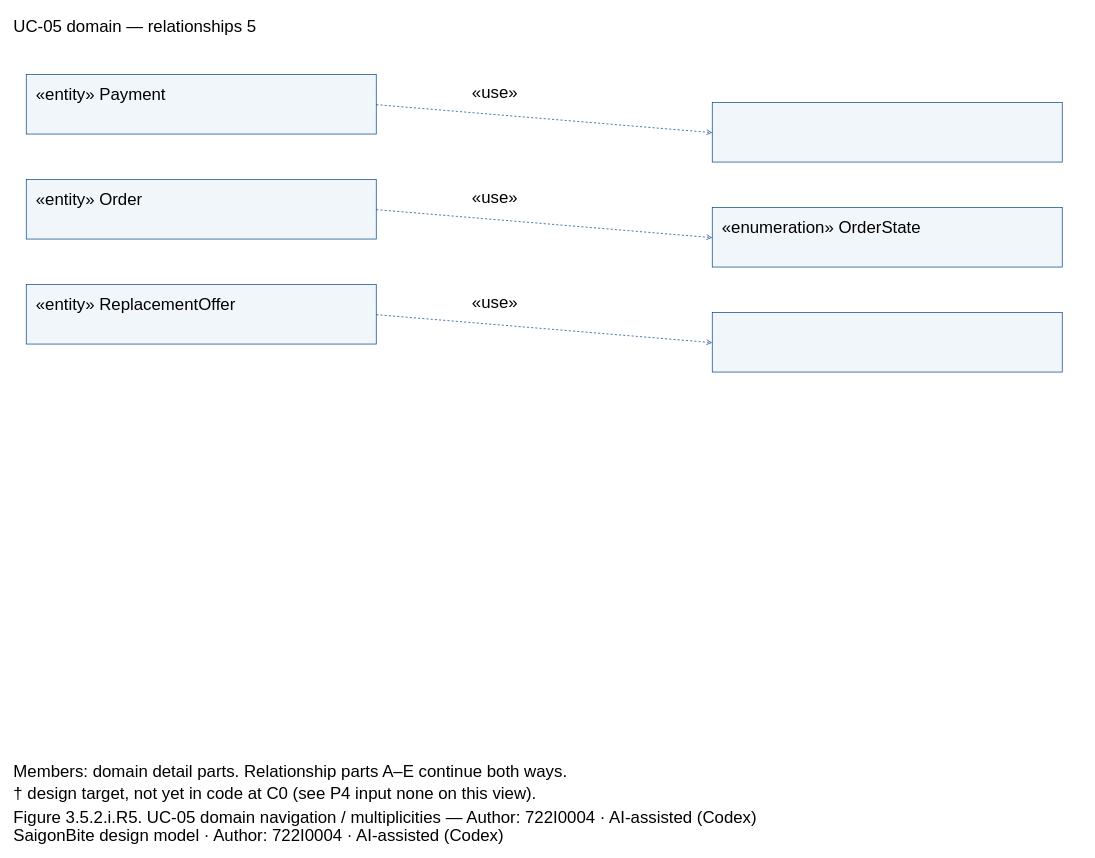
Some shapes in this 1095 by 858 pixel diagram are drawn without their labels. Here are the shapes that lost their labels. From the top down, the centre of each, then its label:
(x=887, y=132): «enumeration» PaymentState
(x=887, y=342): «enumeration» OfferState
